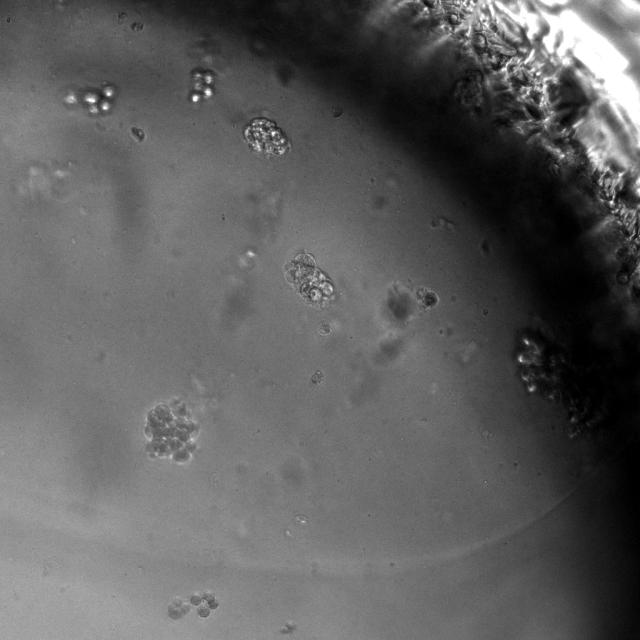organoid: (515, 330, 606, 441), (143, 400, 199, 463), (286, 251, 335, 308), (243, 118, 290, 157), (64, 85, 114, 115), (168, 591, 219, 618), (189, 67, 217, 102)
